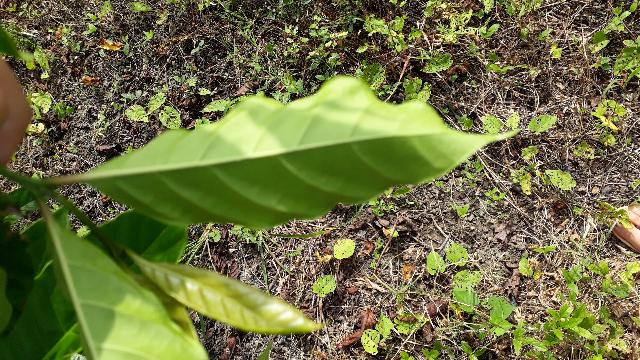healthy: (58, 68, 528, 233)
